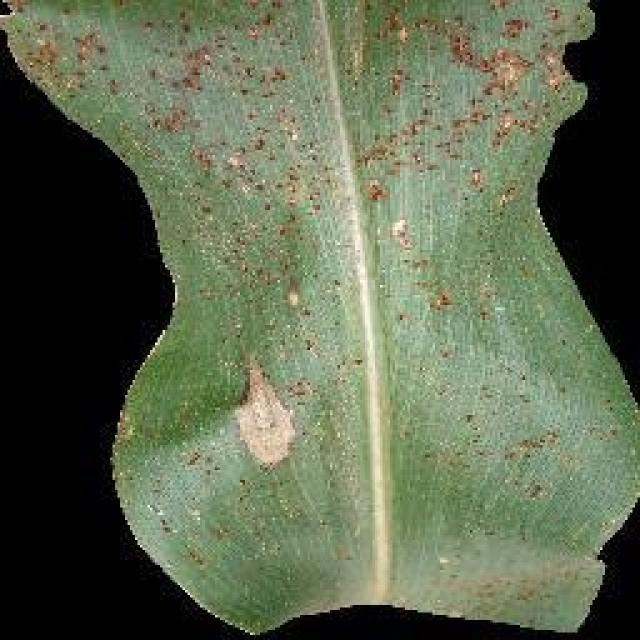Corn Common Rust: (92, 5, 505, 373)
